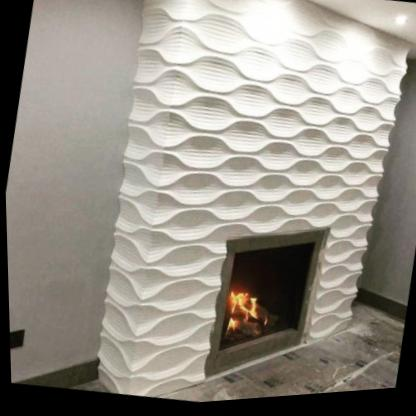Futech tiles: (146, 7, 396, 242)
